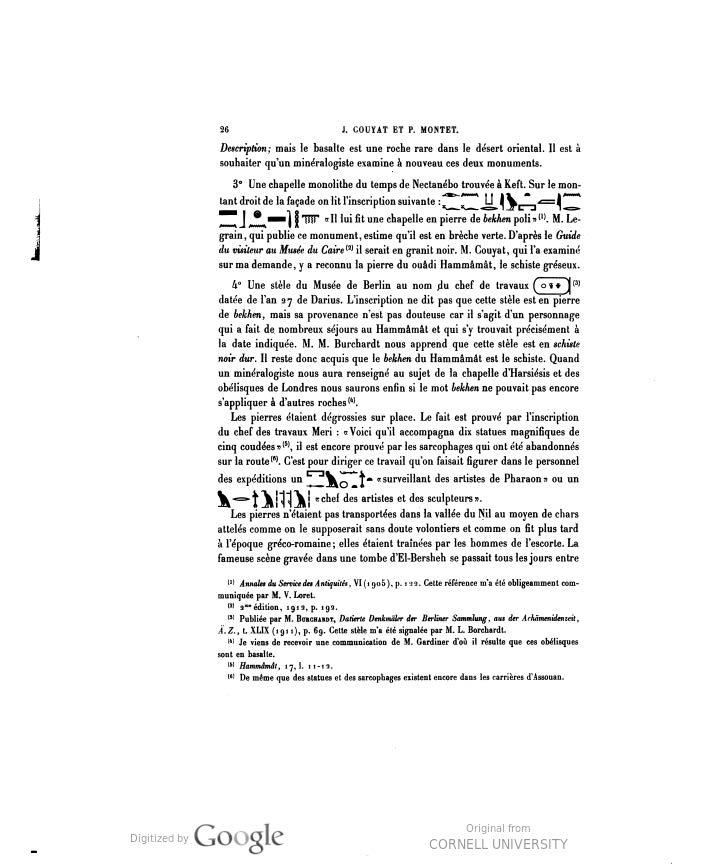circle: (527, 270, 577, 299)
